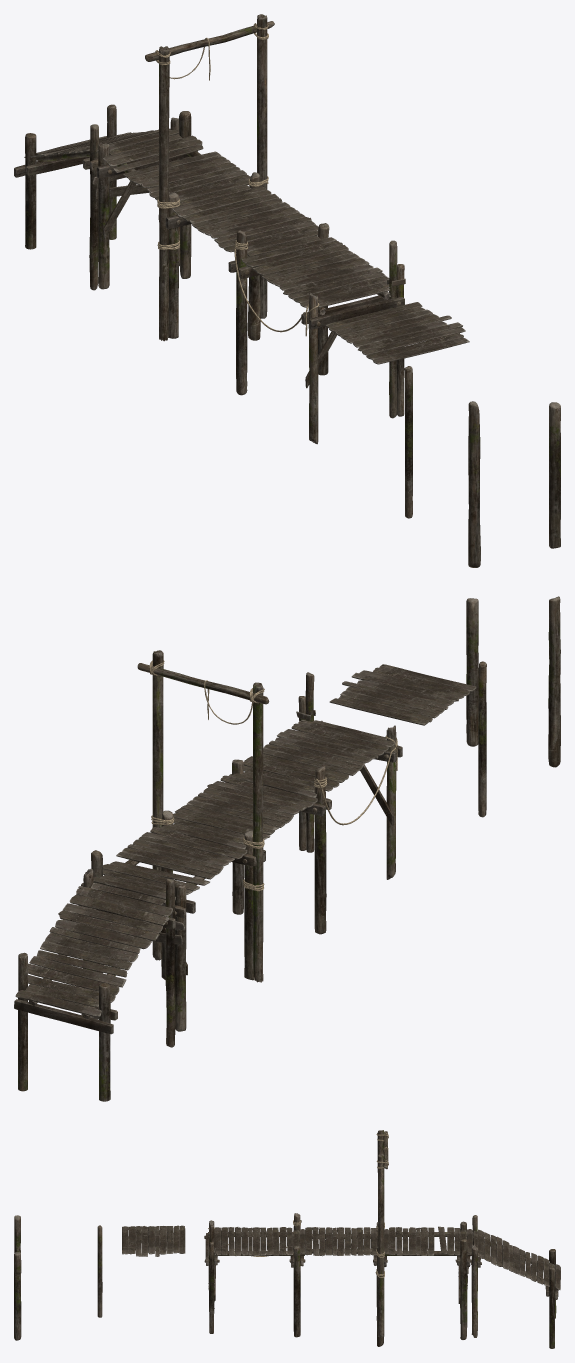
Rendered from modular_wooden_pier.glb.
3 renders of one model, top to bottom at view 1: azimuth 30°, elevation 25°; view 2: azimuth 150°, elevation 25°; view 3: azimuth 270°, elevation 25°, orthographic. The views are drawn at different scales.
Parts seen in each view (by area): view 1: modular_wooden_pier_section_01, modular_wooden_pier_section_03, modular_wooden_pier_section_02, modular_wooden_pier_section_05, modular_wooden_pier_section_04, modular_wooden_pier_planks, modular_wooden_pier_poles; view 2: modular_wooden_pier_section_04, modular_wooden_pier_section_01, modular_wooden_pier_section_03, modular_wooden_pier_section_02, modular_wooden_pier_section_05, modular_wooden_pier_poles, modular_wooden_pier_planks; view 3: modular_wooden_pier_section_01, modular_wooden_pier_section_04, modular_wooden_pier_section_03, modular_wooden_pier_section_02, modular_wooden_pier_planks, modular_wooden_pier_section_05, modular_wooden_pier_poles.
Part boxes in pixels (x1,y1,x2,y2): modular_wooden_pier_section_01: (228,223,405,444); modular_wooden_pier_section_03: (89,111,250,289); modular_wooden_pier_section_02: (158,172,318,340); modular_wooden_pier_section_05: (145,14,274,341); modular_wooden_pier_section_04: (14,104,179,290); modular_wooden_pier_planks: (325,302,469,364); modular_wooden_pier_poles: (404,366,560,567); modular_wooden_pier_section_04: (14,868,175,1101); modular_wooden_pier_section_01: (225,672,402,934); modular_wooden_pier_section_03: (81,827,247,1031); modular_wooden_pier_section_02: (160,775,317,980); modular_wooden_pier_section_05: (137,650,269,982); modular_wooden_pier_poles: (466,596,560,817); modular_wooden_pier_planks: (329,664,476,725); modular_wooden_pier_section_01: (204,1213,305,1337); modular_wooden_pier_section_04: (471,1215,560,1348); modular_wooden_pier_section_03: (376,1221,473,1339); modular_wooden_pier_section_02: (292,1222,389,1346); modular_wooden_pier_planks: (122,1225,185,1256); modular_wooden_pier_section_05: (375,1130,388,1337); modular_wooden_pier_poles: (14,1215,102,1340).
Bounding box in the file's own units: 3.1 × 7.52 × 19.03.
Materials: 2 (2 with a texture image).
